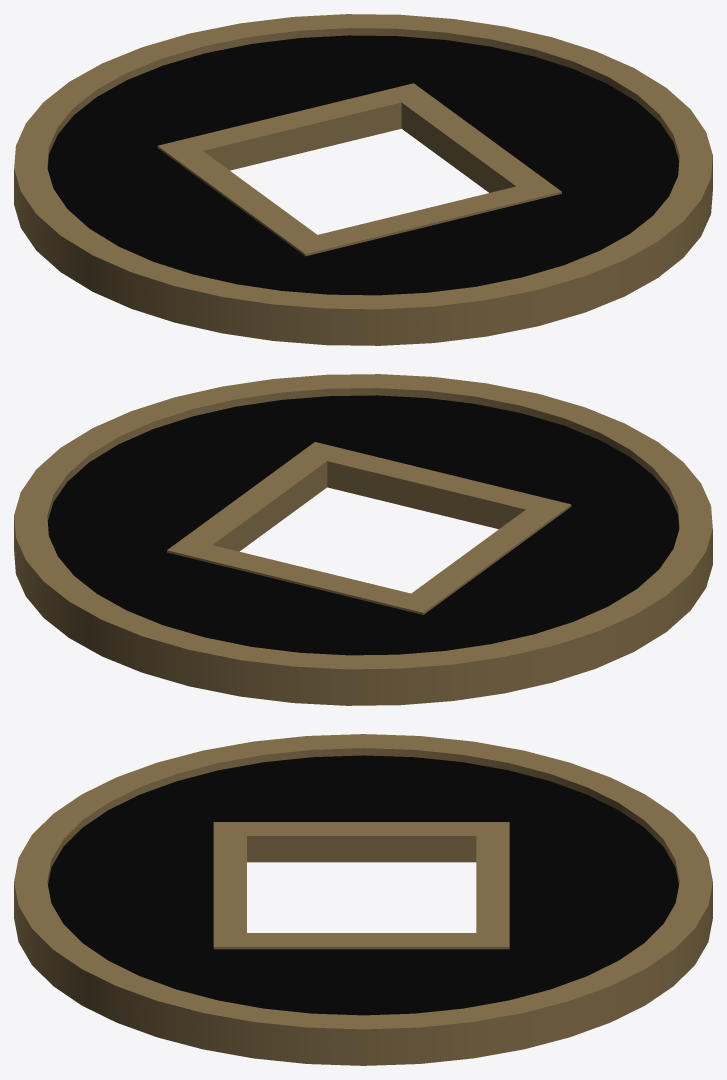
Rendered from coin.fbx.
3 views of the same model, one above another, from view 1: azimuth 30°, elevation 25°; view 2: azimuth 150°, elevation 25°; view 3: azimuth 270°, elevation 25° (orthographic).
Parts seen in each view (by area): view 1: svgMesh2; view 2: svgMesh2; view 3: svgMesh2.
Part boxes in pixels (x1,y1,x2,y2): svgMesh2: (14,14,712,345); svgMesh2: (14,374,712,705); svgMesh2: (14,734,712,1065).
Size of the model in its own units: 0.3424 by 0.0197 by 0.3424.
